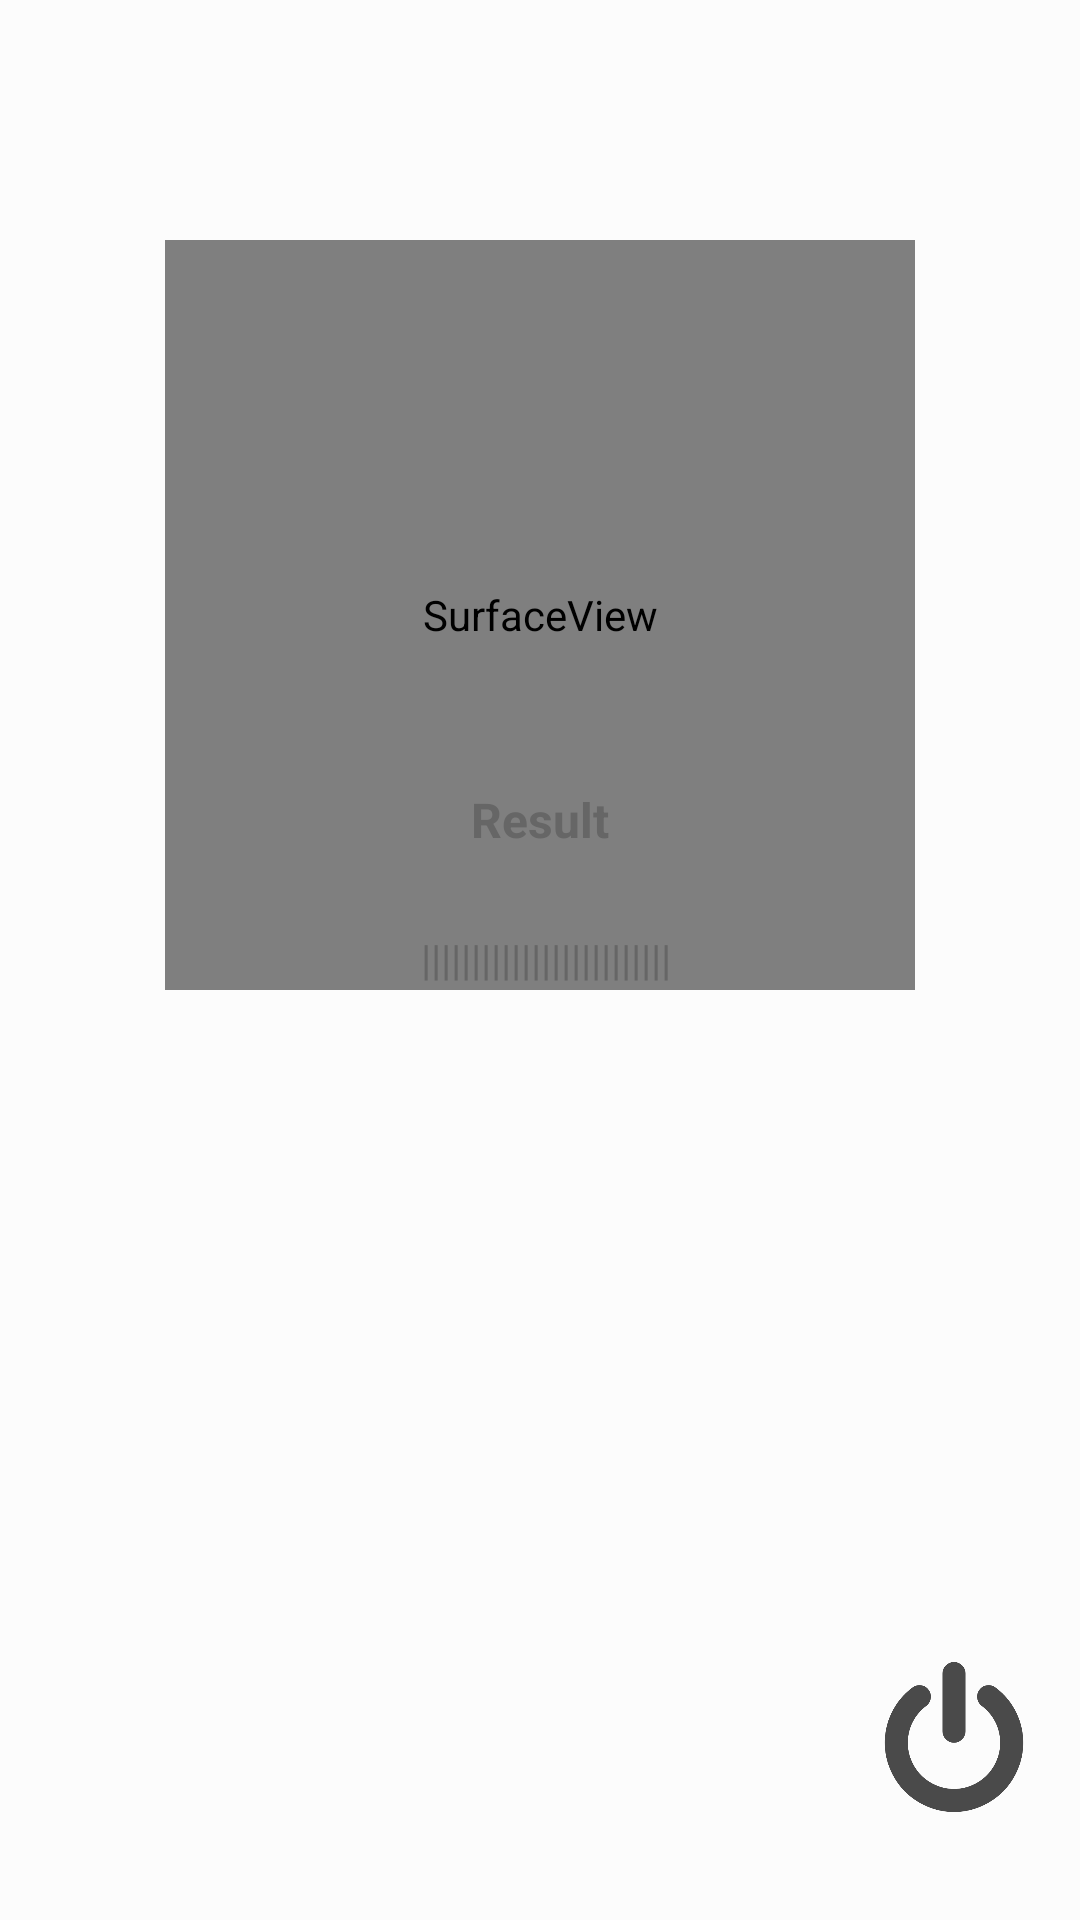

Icons on this 1080px×1920px Android screen, each with its box as bbox=[x1, y1, x2, y2]:
exit: bbox=[885, 1662, 1023, 1812]
